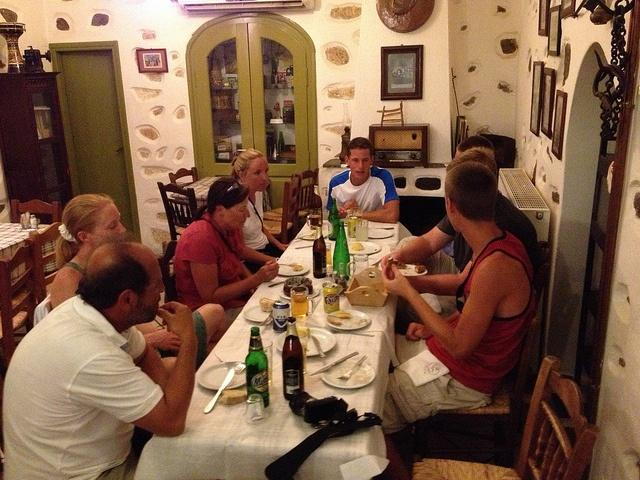Kursi: (410, 352, 599, 479)
